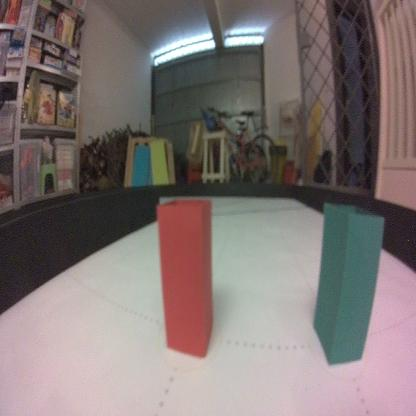green: (312, 200, 385, 365)
red: (155, 195, 215, 359)
